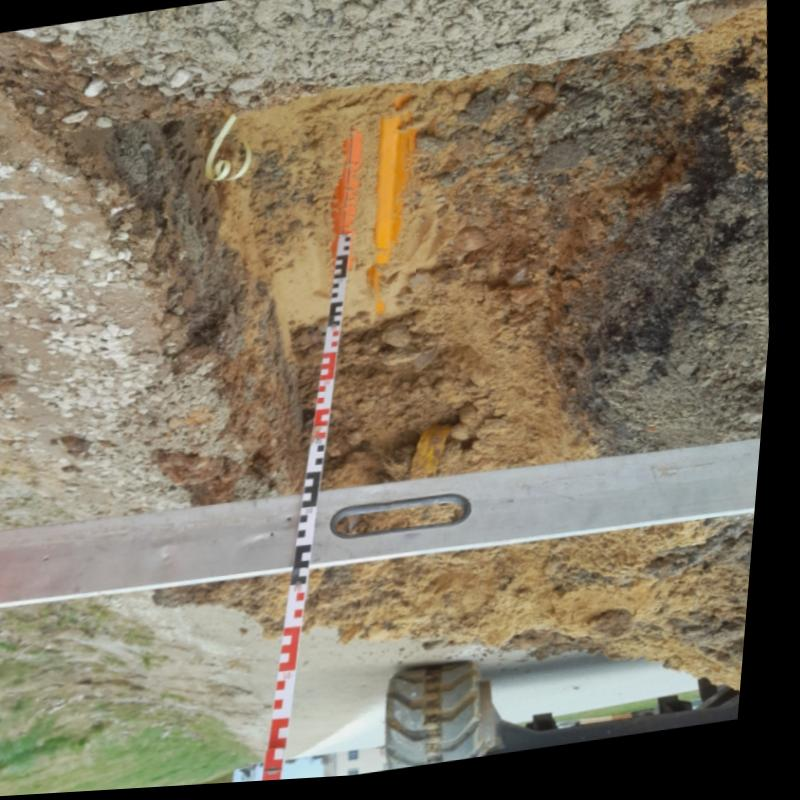Orang-Speednetrohrchen: (372, 119, 414, 303), (335, 139, 365, 238)
